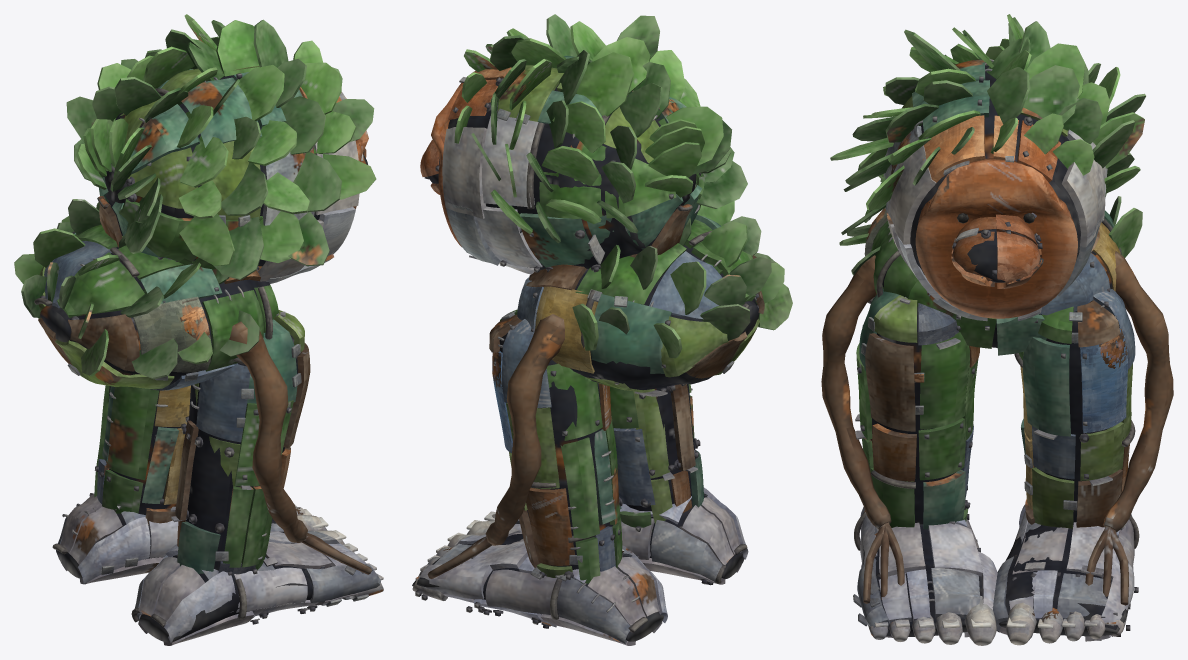
3 views of the same model, side by side, from view 1: azimuth 30°, elevation 25°; view 2: azimuth 150°, elevation 25°; view 3: azimuth 270°, elevation 25° (orthographic). The views are drawn at different scales.
Visible parts, largest first — view 1: Leaves, LeavesDark, PanelsMOSS, PanelsVERDIGRIS, Body, PanelsTIN, PanelsLICHEN, Arms, PanelsBARK, PanelsALUMINIUM, PanelsBLUEGREY, PanelsGALVANISED (+8 smaller); view 2: Leaves, LeavesDark, PanelsMOSS, PanelsTIN, Body, PanelsVERDIGRIS, PanelsLICHEN, PanelsENAMEL, PanelsBLUEGREY, Arms, PanelsGALVANISED, PanelsBARK (+11 smaller); view 3: Arms, Face, LeavesDark, PanelsMOSS, Leaves, Body, PanelsVERDIGRIS, PanelsTIN, PanelsENAMEL, PanelsBARK, PanelsGALVANISED, PanelsLICHEN (+15 smaller).
Boxes of the visible parts, bbox=[...] form: Leaves: bbox=[14, 14, 376, 376]; LeavesDark: bbox=[21, 19, 374, 379]; PanelsMOSS: bbox=[57, 118, 293, 570]; PanelsVERDIGRIS: bbox=[74, 69, 302, 573]; Body: bbox=[40, 75, 367, 642]; PanelsTIN: bbox=[60, 140, 359, 645]; PanelsLICHEN: bbox=[38, 66, 304, 486]; Arms: bbox=[229, 321, 371, 574]; PanelsBARK: bbox=[38, 196, 310, 525]; PanelsALUMINIUM: bbox=[78, 207, 355, 642]; PanelsBLUEGREY: bbox=[44, 241, 251, 504]; PanelsGALVANISED: bbox=[56, 137, 380, 621]; Leaves: bbox=[454, 21, 792, 358]; LeavesDark: bbox=[471, 14, 774, 340]; PanelsMOSS: bbox=[500, 141, 755, 583]; PanelsTIN: bbox=[442, 127, 741, 645]; Body: bbox=[412, 84, 759, 641]; PanelsVERDIGRIS: bbox=[519, 55, 721, 524]; PanelsLICHEN: bbox=[498, 65, 760, 578]; PanelsENAMEL: bbox=[418, 116, 623, 602]; PanelsBLUEGREY: bbox=[501, 251, 722, 571]; Arms: bbox=[427, 314, 564, 578]; PanelsGALVANISED: bbox=[434, 203, 722, 644]; PanelsBARK: bbox=[489, 205, 764, 567]; Arms: bbox=[821, 251, 1173, 605]; Face: bbox=[915, 158, 1077, 318]; LeavesDark: bbox=[841, 17, 1145, 275]; PanelsMOSS: bbox=[856, 220, 1073, 527]; Leaves: bbox=[830, 14, 1144, 257]; Body: bbox=[860, 65, 1129, 636]; PanelsVERDIGRIS: bbox=[859, 59, 1114, 529]; PanelsTIN: bbox=[879, 145, 1134, 637]; PanelsENAMEL: bbox=[860, 129, 1134, 641]; PanelsBARK: bbox=[865, 228, 1122, 527]; PanelsGALVANISED: bbox=[857, 125, 1132, 631]; PanelsLICHEN: bbox=[873, 96, 1132, 528].
Bounding box in the file's own units: 2.6 × 4.1 × 2.33.
32 materials, 32 textured.
